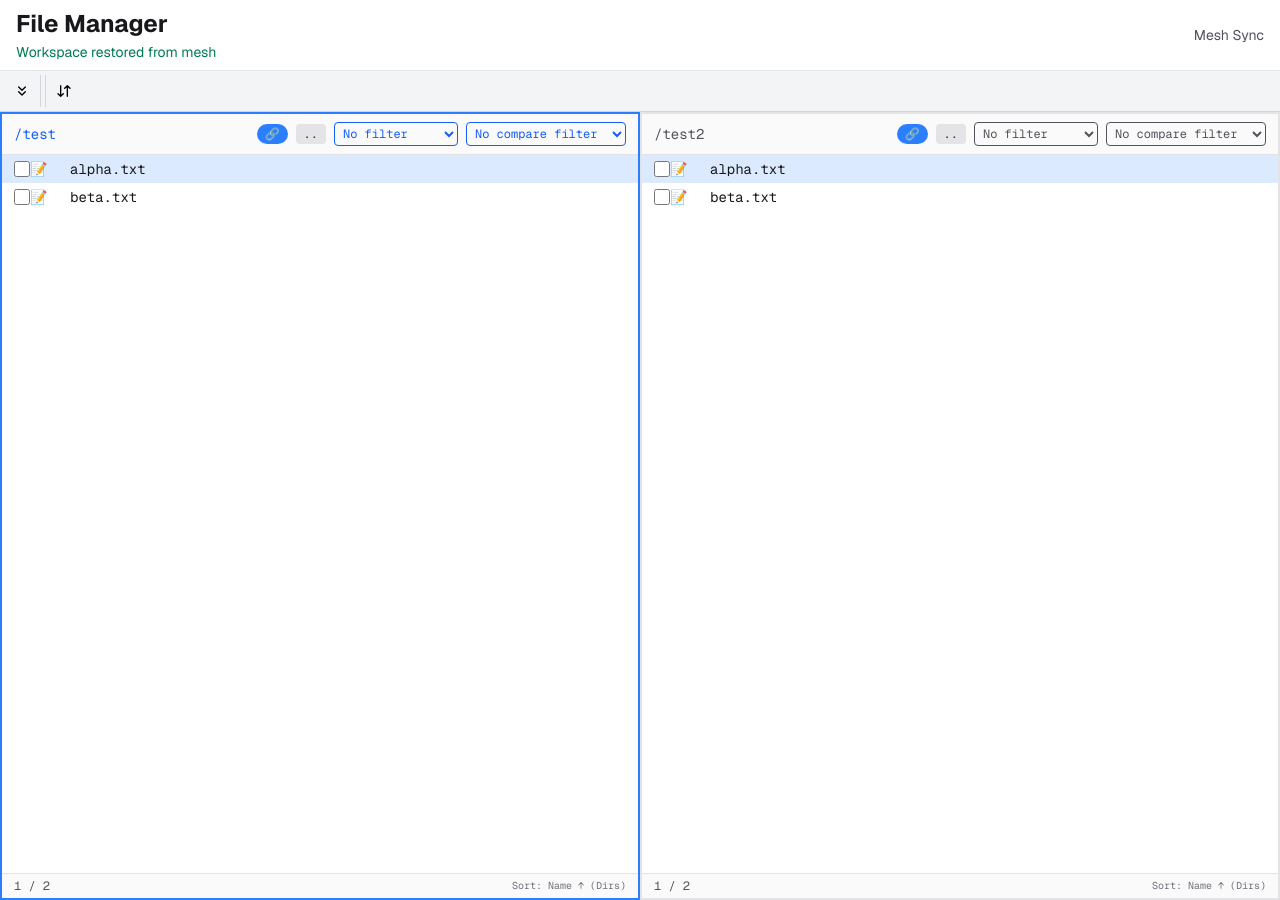
Test: WorkspaceView shared sort [REQ-FILE_SORTING_ADVANCED] › Shared applies shared sort to focused pane only when linked [REQ-LINKED_PANES]
Expected: the 1st text "Sort: Name ↑ (Dirs)" is shown, [512,879,626,893]
Expected: the 2nd text "Sort: Name ↑ (Dirs)" is shown, [1152,879,1266,893]
Click the button with test id "toolbar-view.sort". click: coordinates (64, 91)
box: [50,79,78,103]
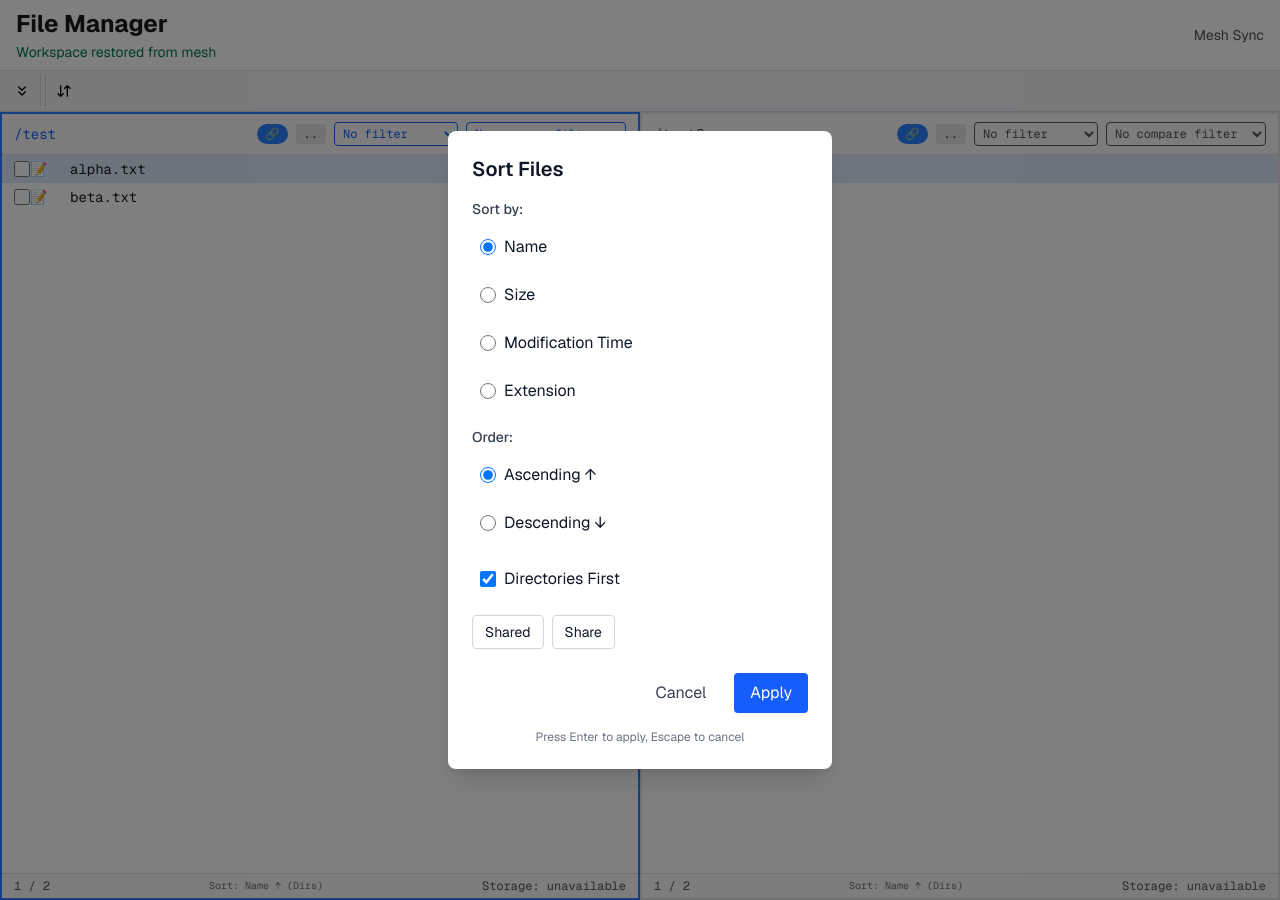
Expected: the element with test id "sort-dialog" is shown, [448,131,832,769]
Click the button with test id "sort-dialog-shared". click: coordinates (508, 632)
box: [472,615,544,649]
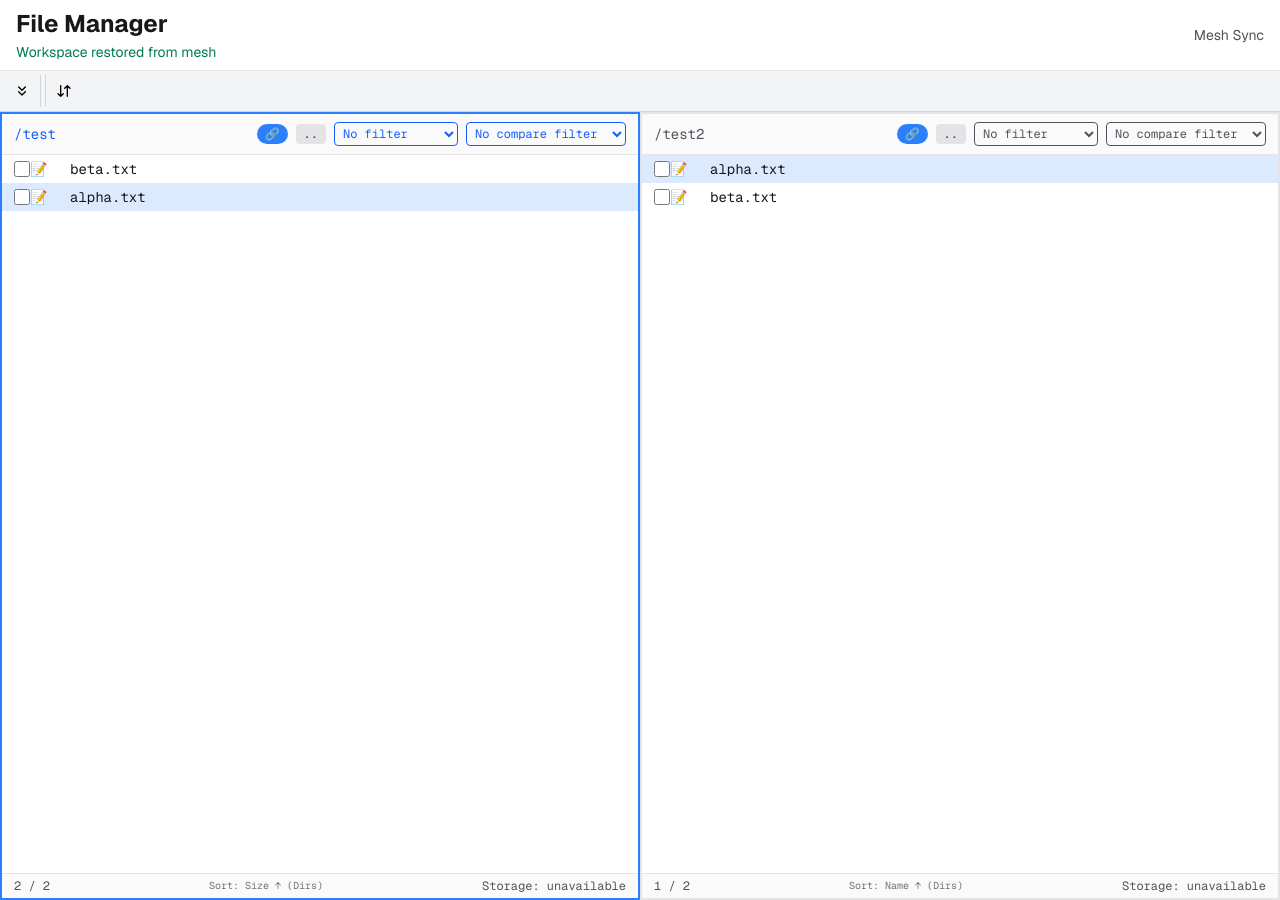
Expected: the text "Sort: Name ↑ (Dirs)" is shown, [849,879,963,893]
Expected: the text "Sort: Size ↑ (Dirs)" is shown, [209,879,323,893]
